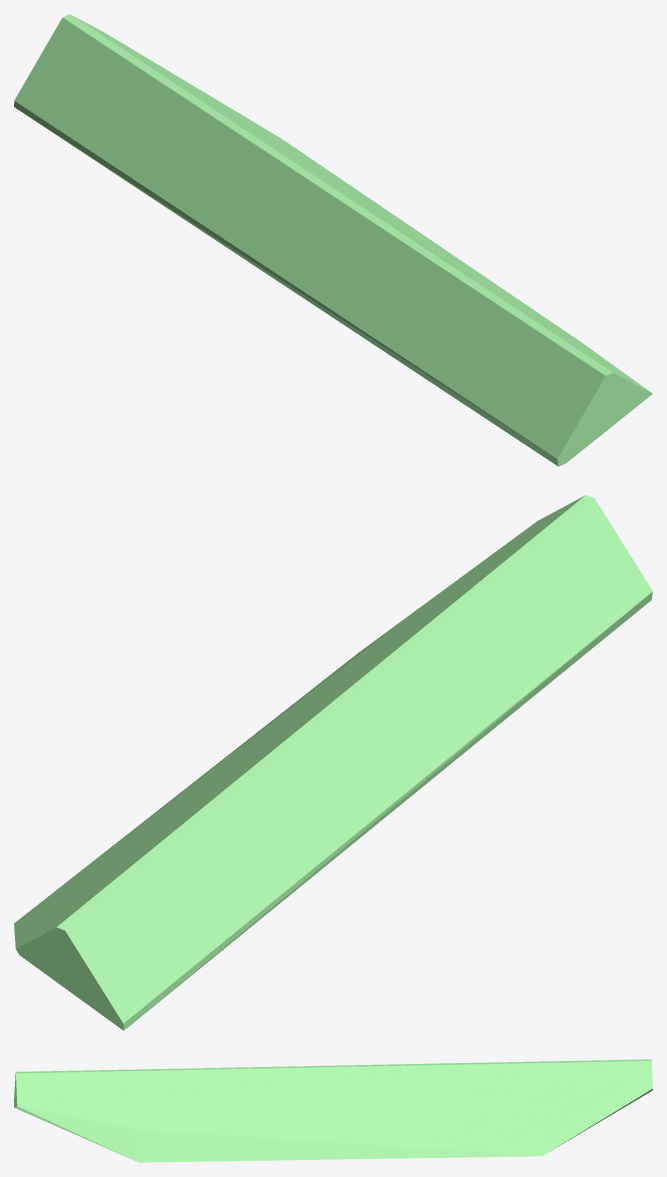
The model's file is dxxx_Lp2_respondable_PSM1_coll_4.dae.
3 views of the same model, one above another, from view 1: azimuth 30°, elevation 25°; view 2: azimuth 150°, elevation 25°; view 3: azimuth 270°, elevation 25° (orthographic). The views are drawn at different scales.
Visible parts, largest first — view 1: Node_000001D818CB9280; view 2: Node_000001D818CB9280; view 3: Node_000001D818CB9280.
Boxes of the visible parts, x1=… form: Node_000001D818CB9280: x1=14, y1=14, x2=652, y2=466; Node_000001D818CB9280: x1=14, y1=495, x2=652, y2=1030; Node_000001D818CB9280: x1=14, y1=1059, x2=652, y2=1162.
Bounding box in the file's own units: 0.074 × 0.0326 × 0.3252.
